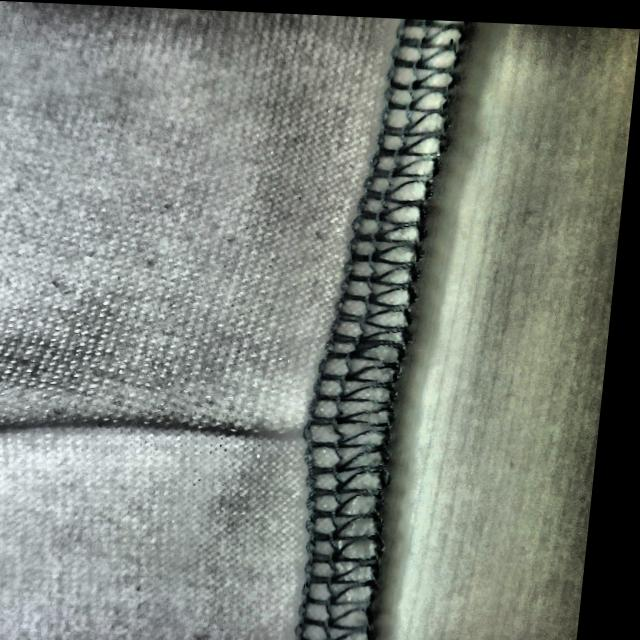seam: (81, 351, 407, 486)
